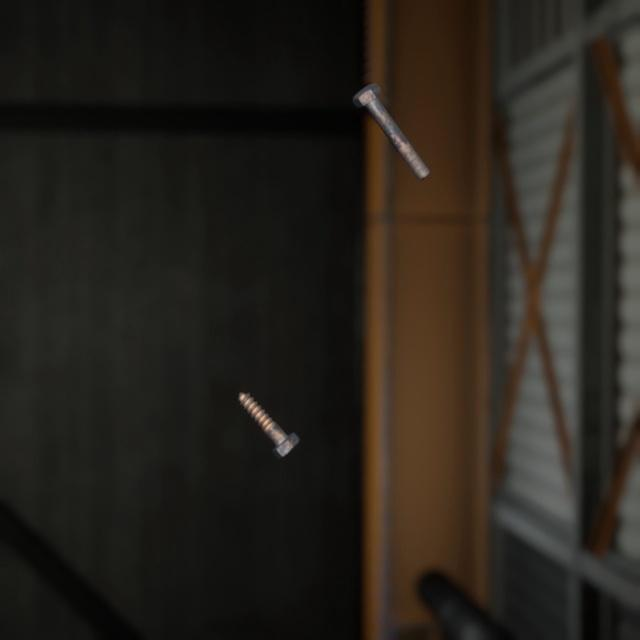bolt: (347, 67, 434, 172), (233, 367, 304, 442)
